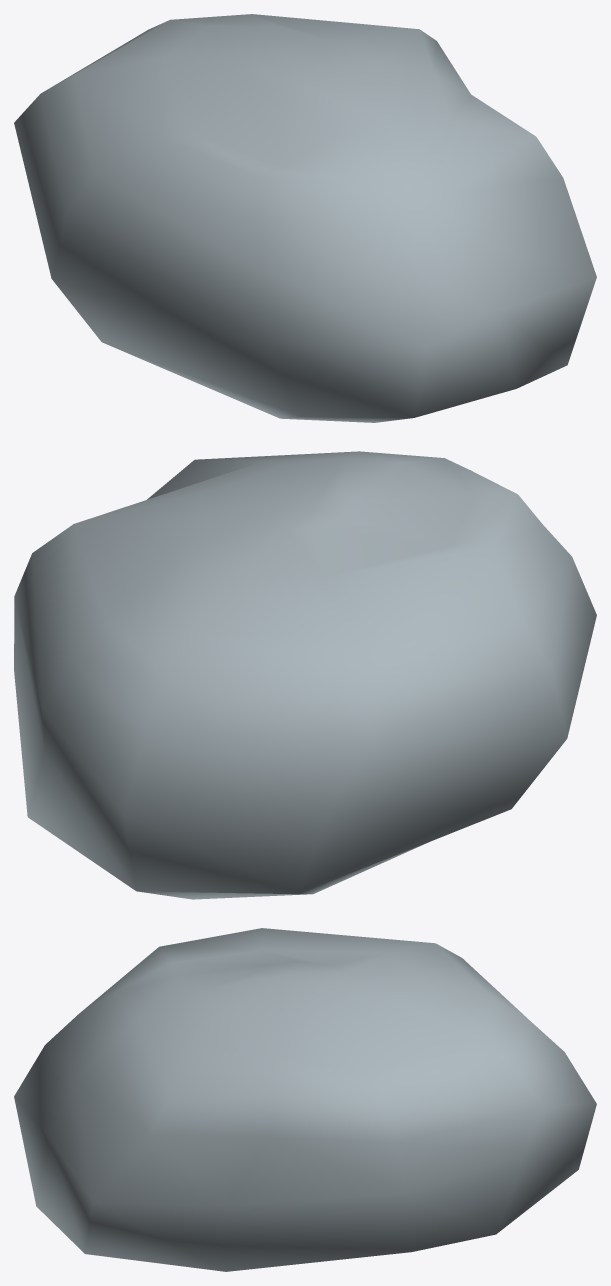
The model's file is stone-color1.fbx.
3 views of the same model, one above another, from view 1: azimuth 30°, elevation 25°; view 2: azimuth 150°, elevation 25°; view 3: azimuth 270°, elevation 25° (orthographic). The views are drawn at different scales.
Parts seen in each view (by area): view 1: nurbsToPoly1; view 2: nurbsToPoly1; view 3: nurbsToPoly1.
Part boxes in pixels (bbox=[...]): nurbsToPoly1: bbox=[14, 14, 596, 422]; nurbsToPoly1: bbox=[14, 451, 596, 899]; nurbsToPoly1: bbox=[14, 928, 596, 1271].
Size of the model in its own units: 8.61 by 5.03 by 11.26.
Materials: 1 (1 with a texture image).
